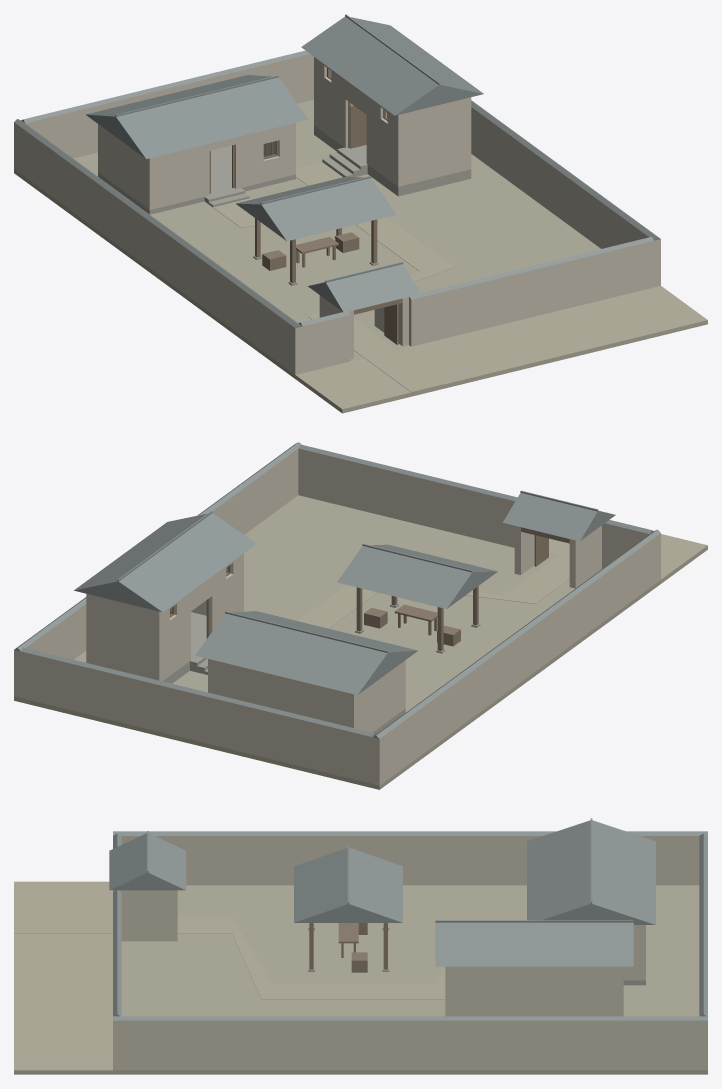
File: B2-LOD1-prototype.glb
The picture shows the model from 3 angles, top to bottom: view 1: azimuth 30°, elevation 25°; view 2: azimuth 150°, elevation 25°; view 3: azimuth 270°, elevation 25°; orthographic projection. The views are drawn at different scales.
Parts seen in each view (by area): view 1: architecture_C_whitebox_earth_wall.001, architecture_C_roof_rhythm_not_glaze_copy.001, site_lot, site_neutral_lane, designed_loading_yard, architecture_C_floor_plinth.001, architecture_C_plain_timber.001; view 2: architecture_C_whitebox_earth_wall.001, architecture_C_roof_rhythm_not_glaze_copy.001, site_lot, designed_loading_yard, architecture_C_plain_timber.001, site_neutral_lane, architecture_C_floor_plinth.001; view 3: architecture_C_whitebox_earth_wall.001, site_lot, architecture_C_roof_rhythm_not_glaze_copy.001, site_neutral_lane, designed_loading_yard, architecture_C_plain_timber.001.
Boxes of the visible parts, x1,y1,x2,y2 form: architecture_C_whitebox_earth_wall.001: (14,54,660,374); architecture_C_roof_rhythm_not_glaze_copy.001: (14,14,660,327); site_lot: (14,100,600,378); site_neutral_lane: (295,286,707,413); designed_loading_yard: (213,162,454,392); architecture_C_floor_plinth.001: (98,112,471,285); architecture_C_plain_timber.001: (209,68,402,344); architecture_C_whitebox_earth_wall.001: (14,448,660,785); architecture_C_roof_rhythm_not_glaze_copy.001: (14,442,660,738); site_lot: (14,495,660,789); designed_loading_yard: (298,547,569,628); architecture_C_plain_timber.001: (170,527,569,651); site_neutral_lane: (549,534,707,583); architecture_C_floor_plinth.001: (162,603,480,733); architecture_C_whitebox_earth_wall.001: (113,836,707,1070); site_lot: (113,885,707,1074); architecture_C_roof_rhythm_not_glaze_copy.001: (109,818,707,1020); site_neutral_lane: (14,881,112,1074); designed_loading_yard: (14,917,445,999); architecture_C_plain_timber.001: (309,923,387,972).
Size of the model in its own units: 18 by 5.27 by 28.
